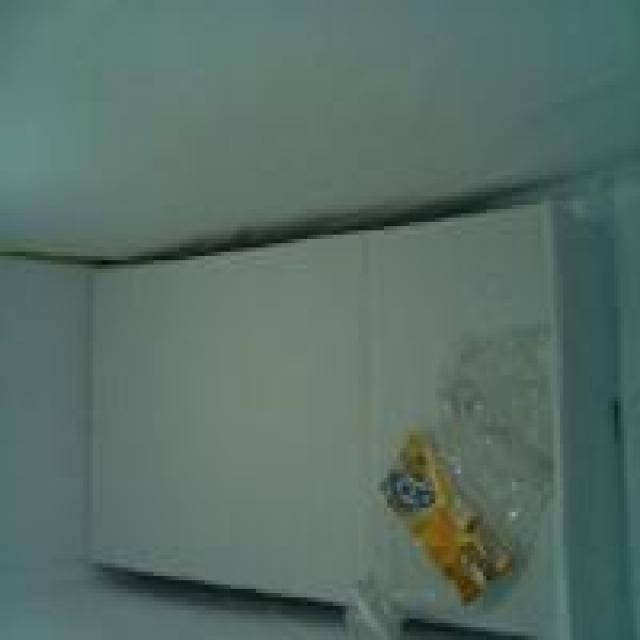bottle: (286, 294, 584, 640)
